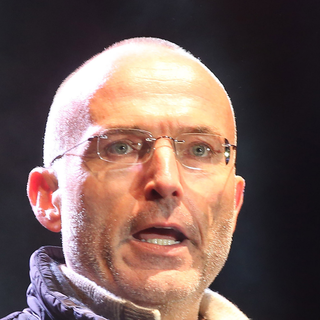eye: (177, 134, 222, 167), (97, 134, 145, 160)
